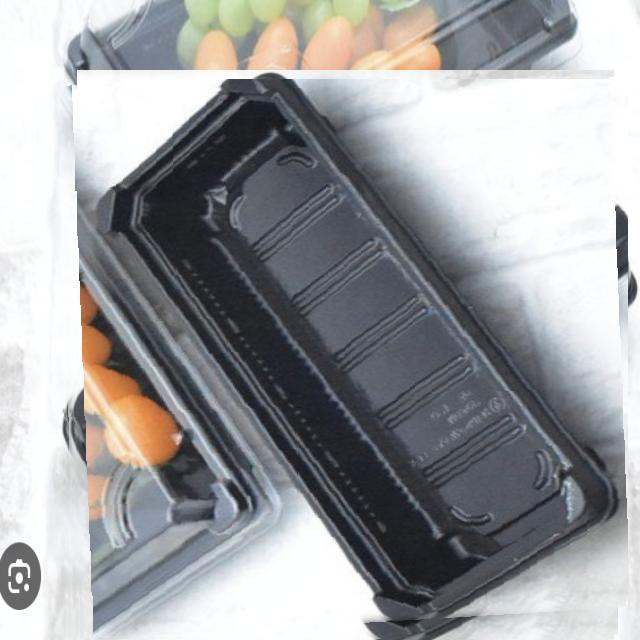recyclable: (61, 79, 628, 640)
